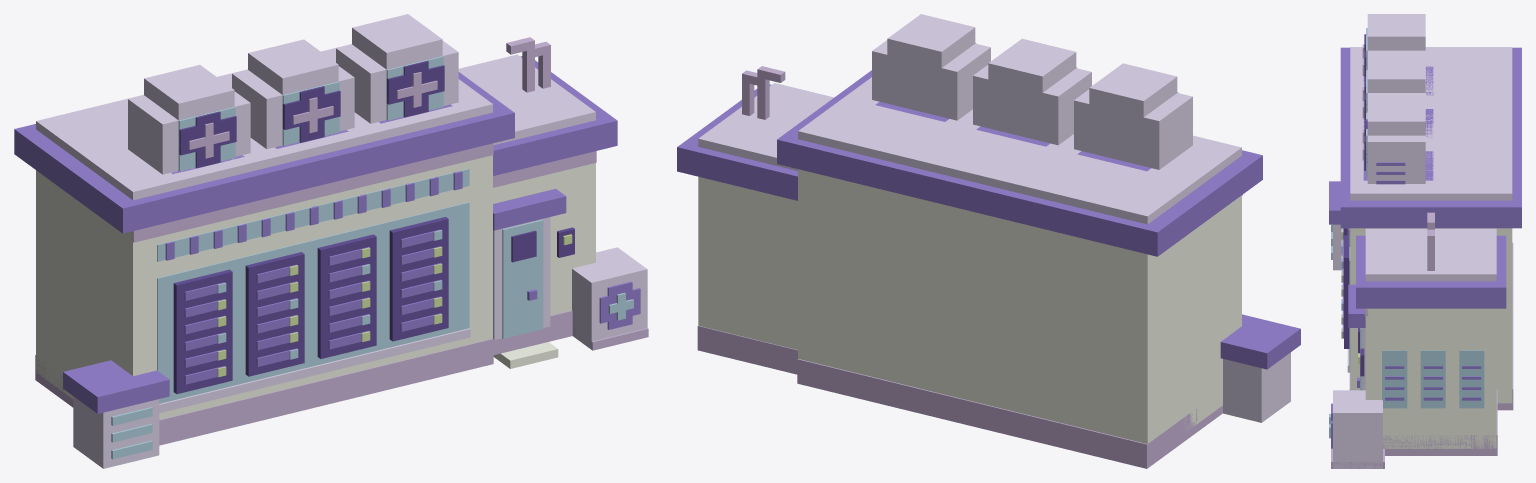
Rendered from meadow-data-center.glb.
3 views of the same model, side by side, from view 1: azimuth 30°, elevation 25°; view 2: azimuth 150°, elevation 25°; view 3: azimuth 270°, elevation 25° (orthographic). The views are drawn at different scales.
Visible parts, largest first — view 1: Main hall / cream shell, Main hall / roof slab, Hall / recessed blue equipment bay, Main hall / roof surface, Main hall / lavender foundation, Service wing / cream shell, Service wing / roof surface, Rack 2 / cabinet, Rack 3 / cabinet, Rack 1 / cabinet, Rack 4 / cabinet, Outdoor cooling / housing (+30 smaller); view 2: Main hall / cream shell, Main hall / roof surface, Main hall / roof slab, Service wing / cream shell, Main hall / lavender foundation, Rooftop cooling 1 / housing, Rooftop cooling 2 / housing, Rooftop cooling 3 / housing, Service wing / roof surface, Service wing / roof cap, Backup power / cabinet, Rooftop cooling 2 / raised lid (+4 smaller); view 3: Main hall / roof surface, Service wing / cream shell, Main hall / roof slab, Service wing / roof surface, Service wing / roof cap, Outdoor cooling / housing, Main hall / cream shell, Rooftop cooling 3 / housing, Rooftop cooling 3 / raised lid, Rooftop cooling 1 / raised lid, Rooftop cooling 2 / raised lid, Service wing / foundation (+16 smaller).
Part boxes in pixels (x1=…): Main hall / cream shell: x1=36, y1=155, x2=492, y2=419; Main hall / roof slab: x1=14, y1=72, x2=514, y2=233; Hall / recessed blue equipment bay: x1=157, y1=202, x2=469, y2=403; Main hall / roof surface: x1=36, y1=44, x2=492, y2=200; Main hall / lavender foundation: x1=35, y1=338, x2=493, y2=445; Service wing / cream shell: x1=493, y1=163, x2=595, y2=315; Service wing / roof surface: x1=458, y1=54, x2=595, y2=144; Rack 2 / cabinet: x1=245, y1=252, x2=304, y2=376; Rack 3 / cabinet: x1=317, y1=234, x2=376, y2=358; Rack 1 / cabinet: x1=173, y1=269, x2=232, y2=393; Rack 4 / cabinet: x1=389, y1=217, x2=448, y2=341; Outdoor cooling / housing: x1=572, y1=247, x2=647, y2=349; Main hall / cream shell: x1=798, y1=169, x2=1241, y2=443; Main hall / roof surface: x1=798, y1=77, x2=1241, y2=224; Main hall / roof slab: x1=777, y1=70, x2=1262, y2=256; Service wing / cream shell: x1=698, y1=176, x2=797, y2=349; Main hall / lavender foundation: x1=797, y1=359, x2=1222, y2=468; Rooftop cooling 1 / housing: x1=1074, y1=89, x2=1192, y2=169; Rooftop cooling 2 / housing: x1=973, y1=65, x2=1091, y2=145; Rooftop cooling 3 / housing: x1=872, y1=40, x2=990, y2=120; Service wing / roof surface: x1=698, y1=83, x2=833, y2=170; Service wing / roof cap: x1=677, y1=84, x2=797, y2=200; Backup power / cabinet: x1=1223, y1=352, x2=1290, y2=422; Rooftop cooling 2 / raised lid: x1=988, y1=38, x2=1076, y2=92; Main hall / roof surface: x1=1350, y1=47, x2=1512, y2=200; Service wing / cream shell: x1=1365, y1=308, x2=1496, y2=448; Main hall / roof slab: x1=1340, y1=47, x2=1521, y2=228; Service wing / roof surface: x1=1365, y1=228, x2=1496, y2=281; Service wing / roof cap: x1=1356, y1=235, x2=1506, y2=308; Outdoor cooling / housing: x1=1333, y1=390, x2=1382, y2=468; Main hall / cream shell: x1=1350, y1=228, x2=1512, y2=403; Rooftop cooling 3 / housing: x1=1367, y1=135, x2=1425, y2=183; Rooftop cooling 3 / raised lid: x1=1367, y1=98, x2=1425, y2=135; Rooftop cooling 1 / raised lid: x1=1367, y1=14, x2=1425, y2=50; Rooftop cooling 2 / raised lid: x1=1367, y1=56, x2=1425, y2=92; Service wing / foundation: x1=1383, y1=389, x2=1497, y2=455.
Bounding box in the file's own units: 13.8 × 8 × 5.
